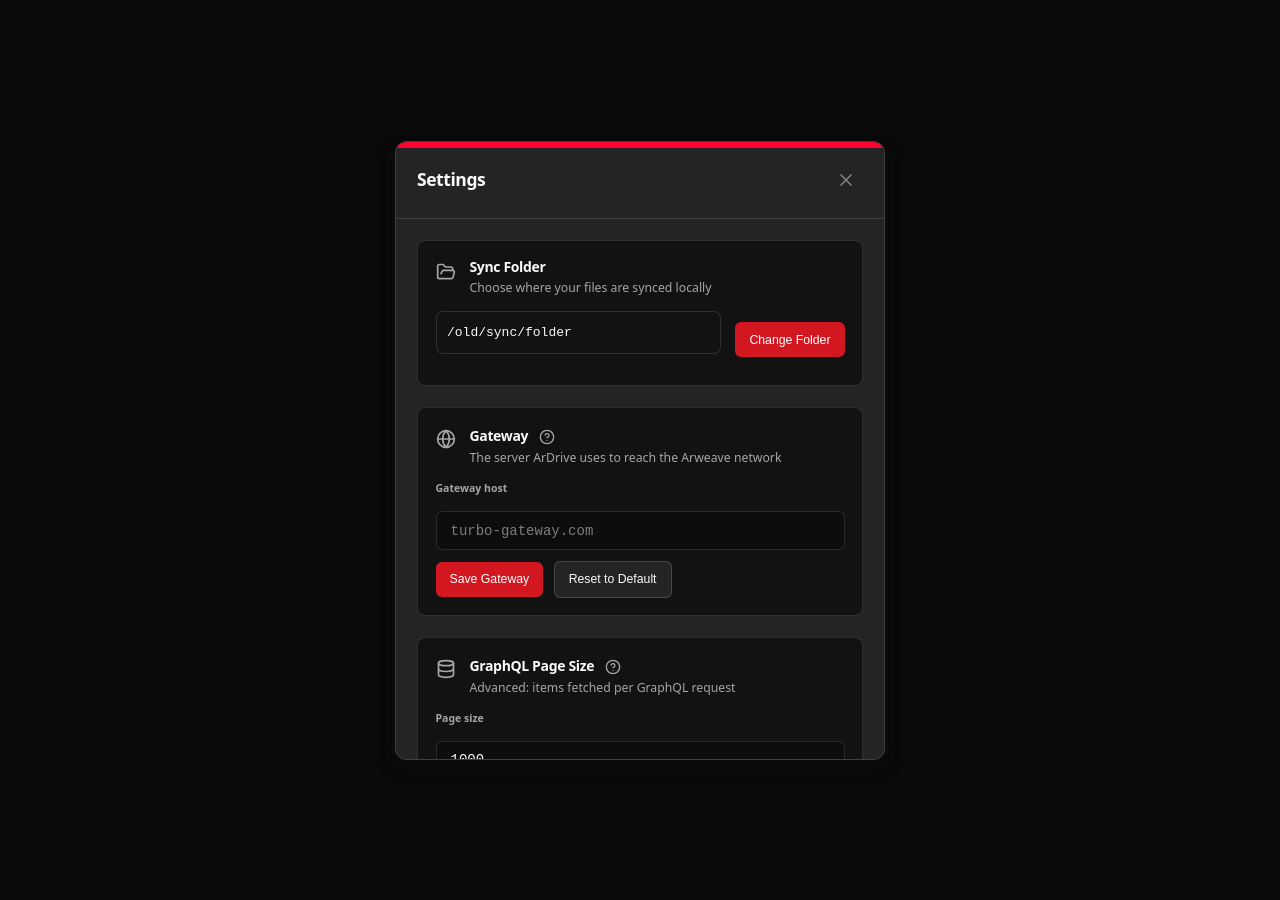
Test case: Settings — Change Folder (UX-2) › shows an error and keeps the old folder when persisting fails
Click the button "Change Folder".
click(790, 340)  # box [736, 322, 844, 357]
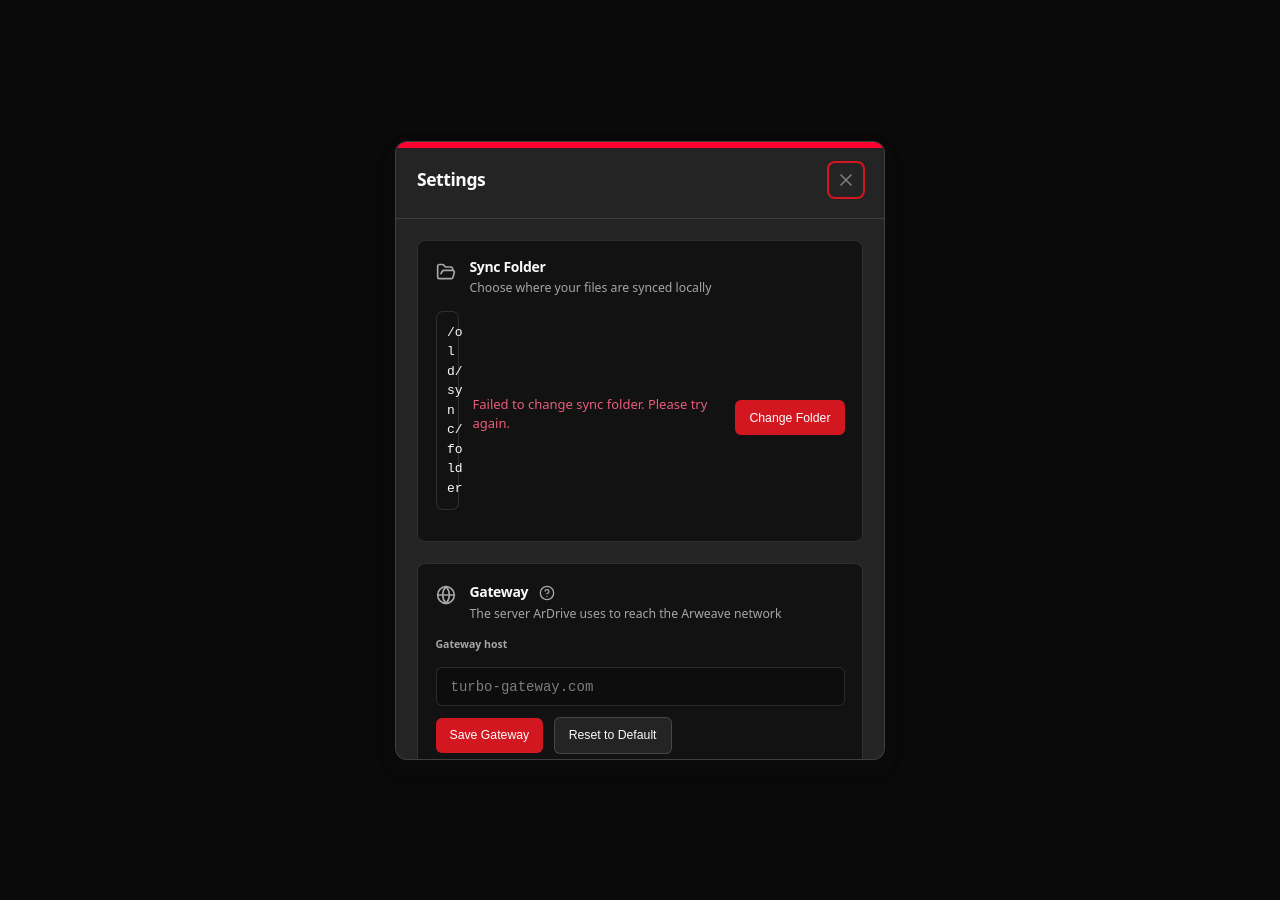
Expected: the text "/old/sync/folder" is shown, [436, 311, 458, 510]
Now the text "Failed to change sync folder. Please try again." is shown, box [472, 395, 722, 434]
